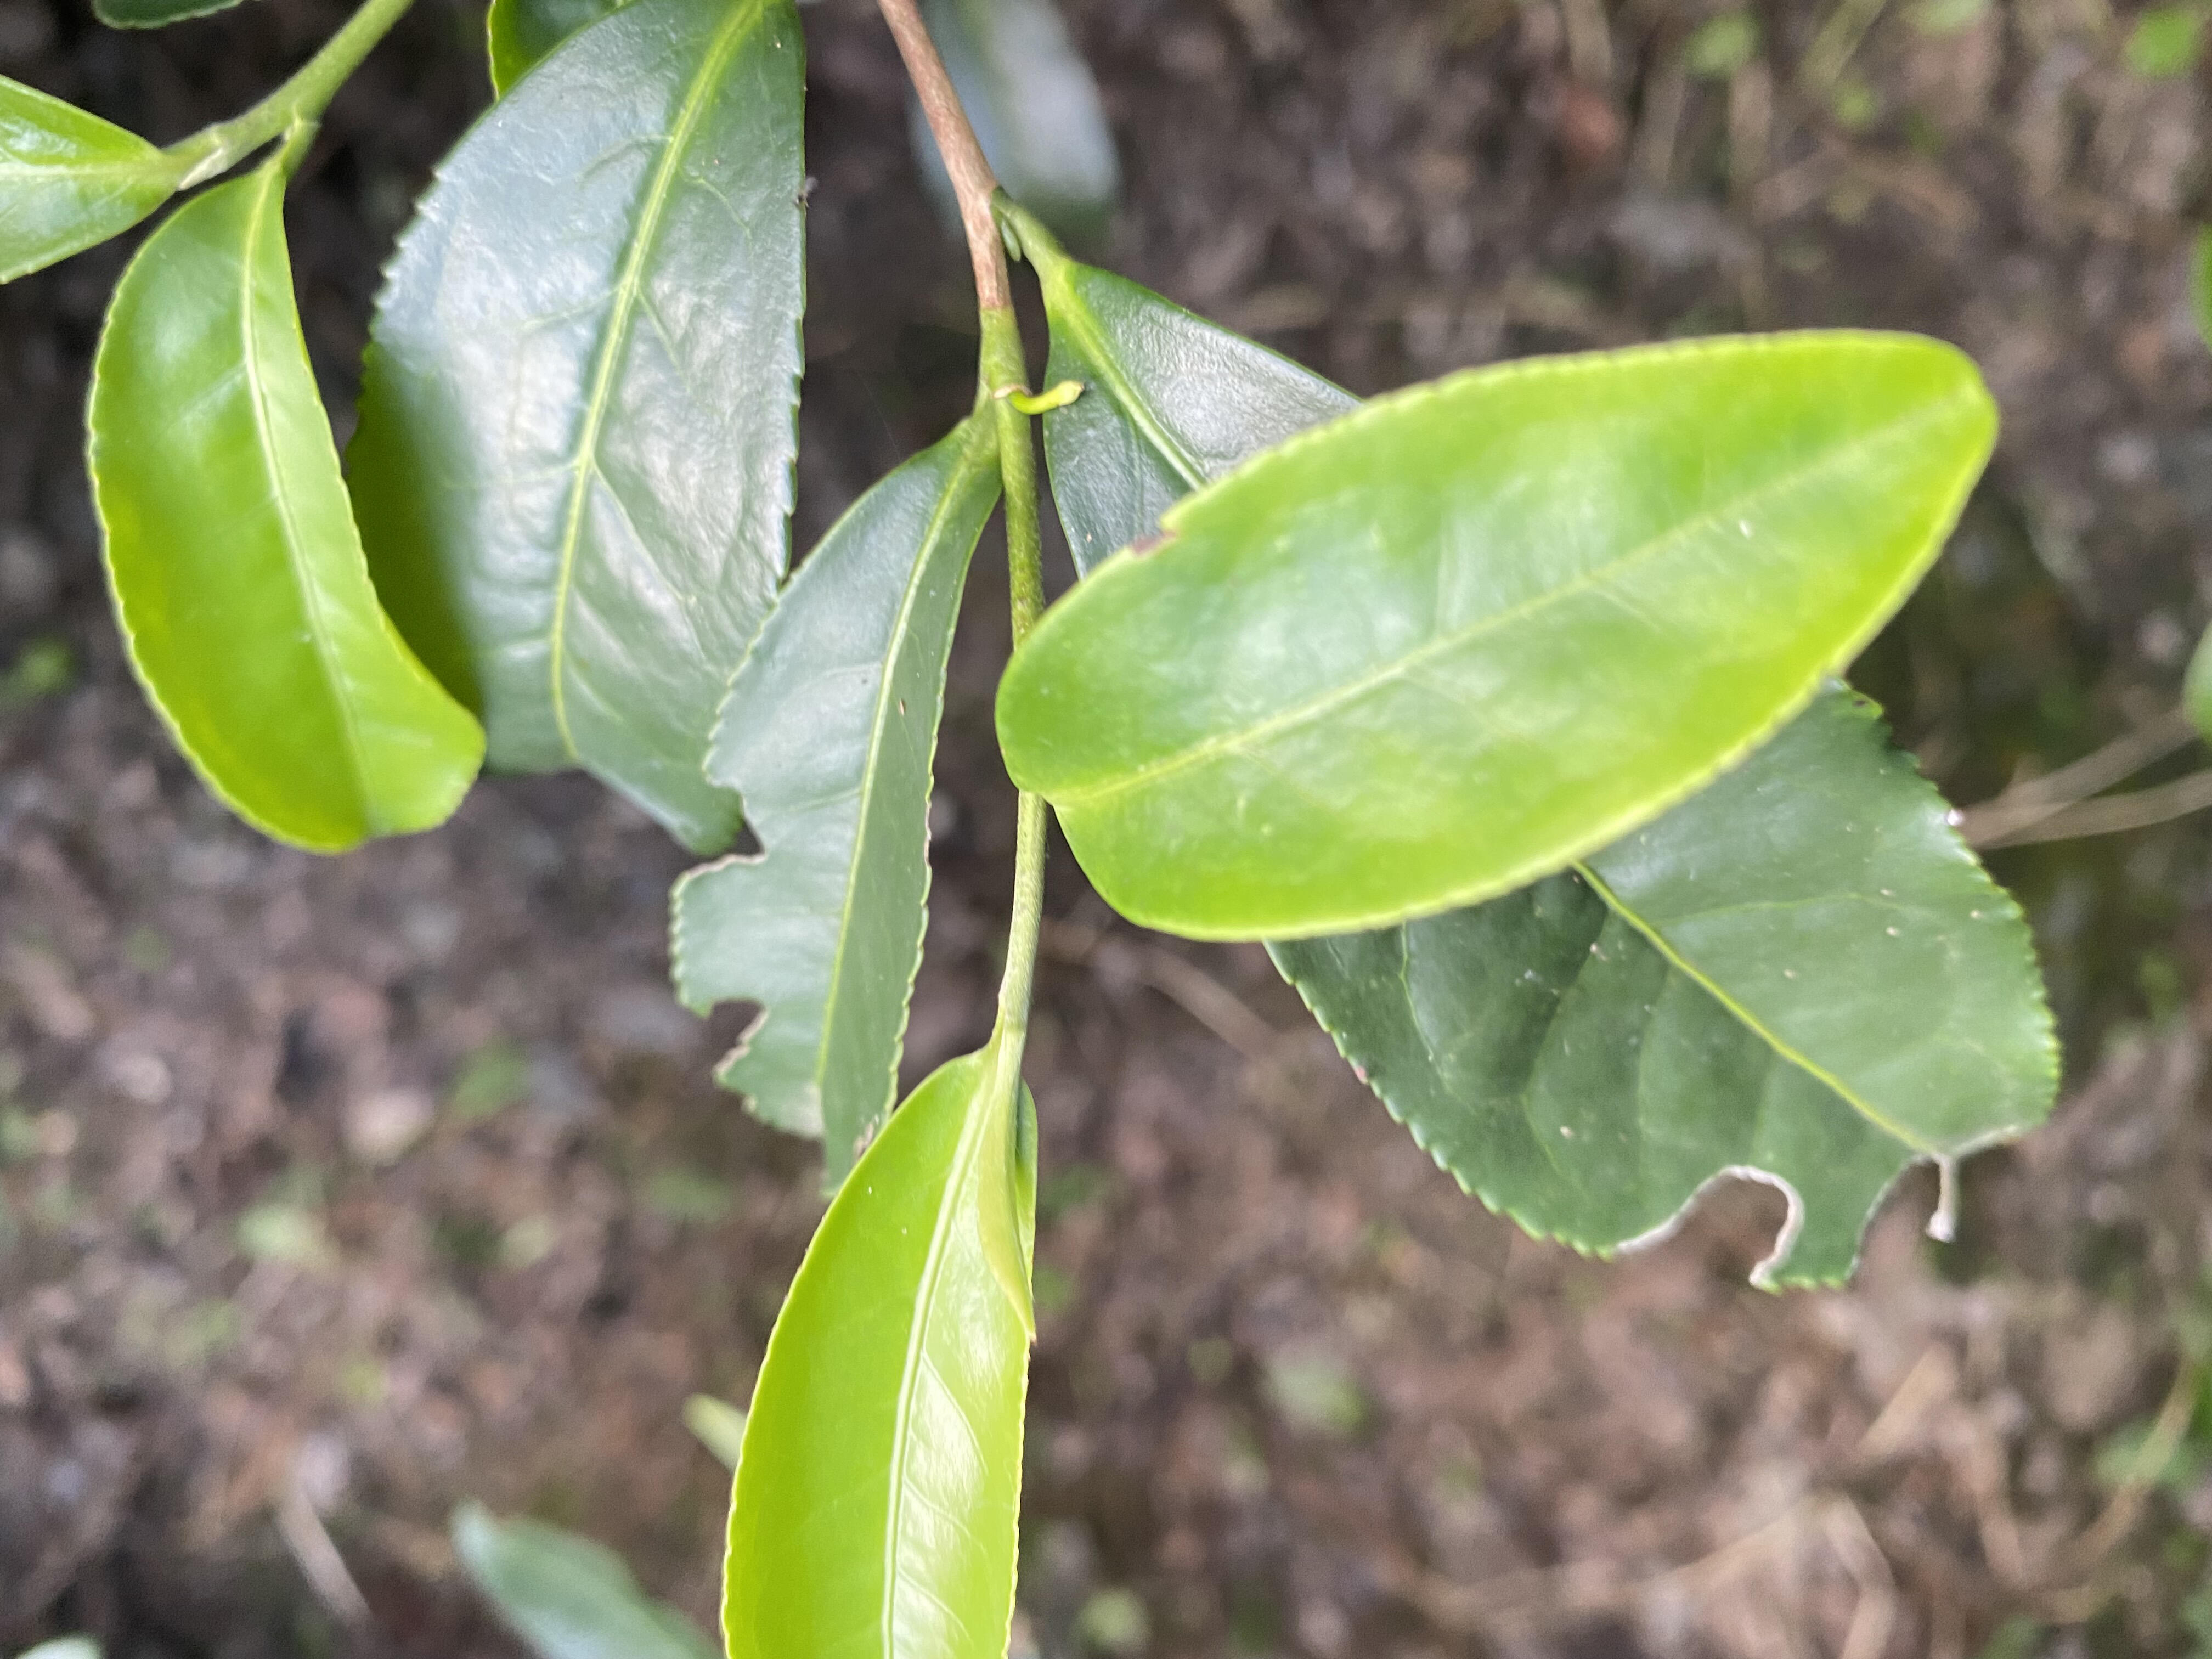chihuo_high: (1268, 669, 2064, 1298), (665, 434, 1000, 1209)
healthy: (345, 3, 806, 856), (78, 166, 491, 854), (718, 1058, 1045, 1656)
tanju_low: (991, 321, 2000, 943)
